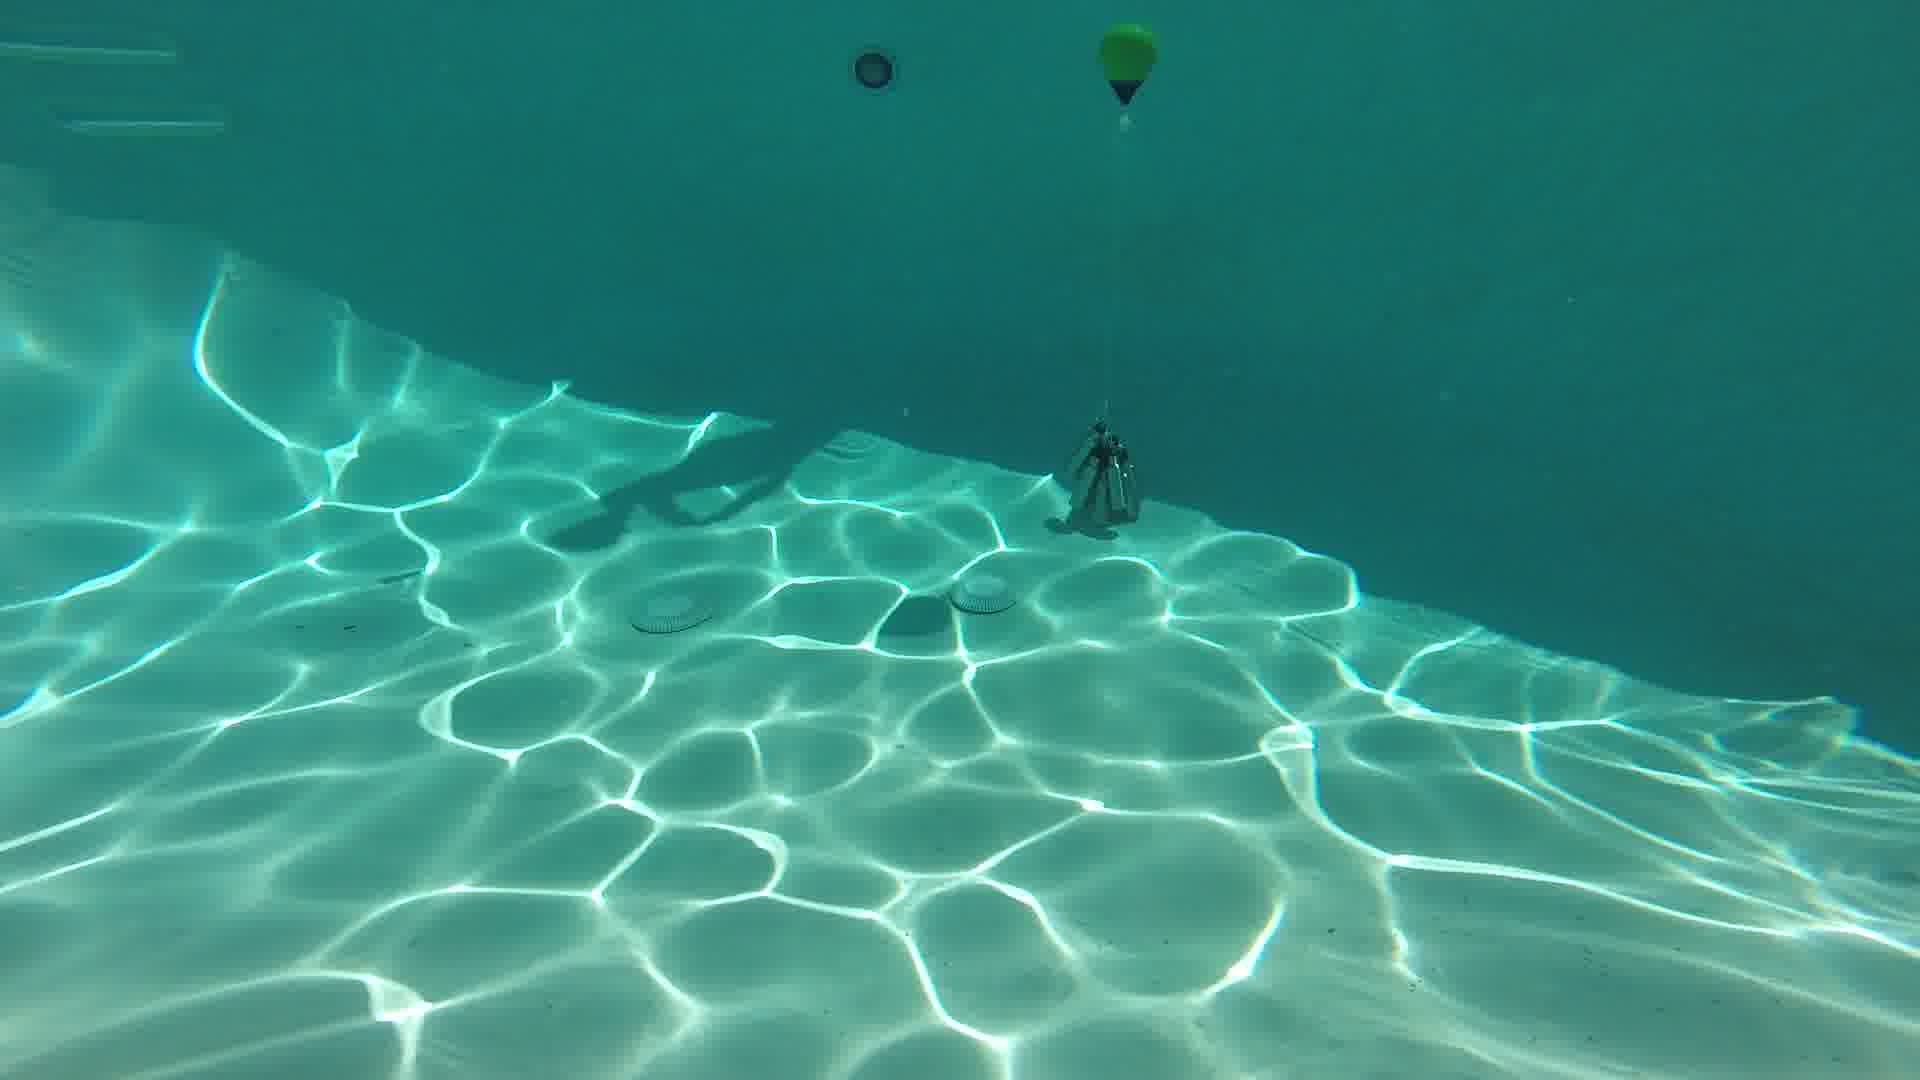yellow_buoy: (1098, 25, 1158, 107)
